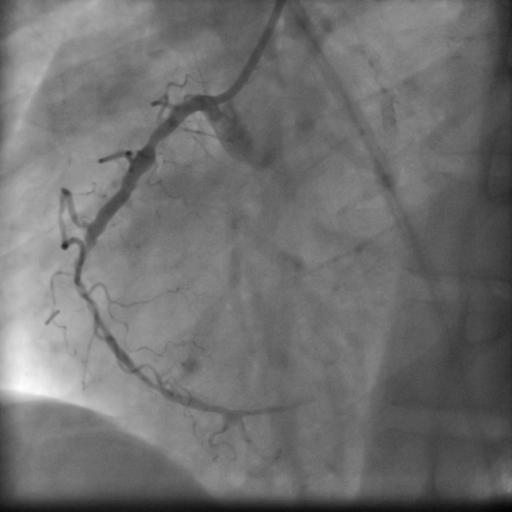Stenosis: (144, 123, 170, 154)
